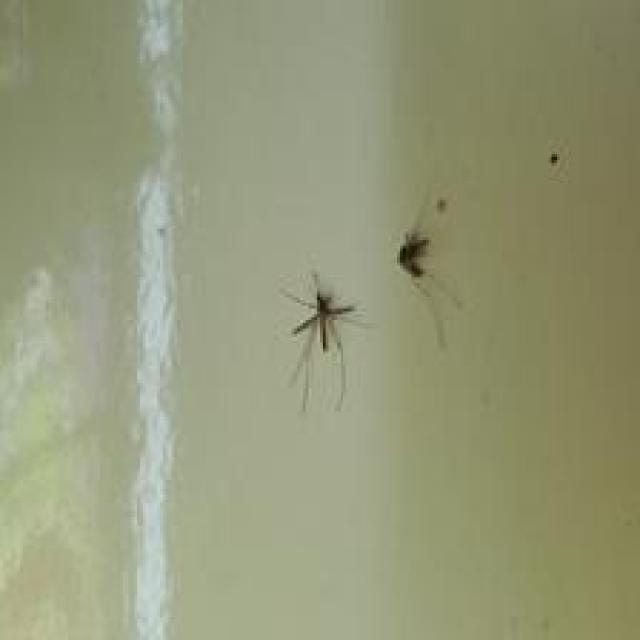Culex: (280, 270, 369, 413)
